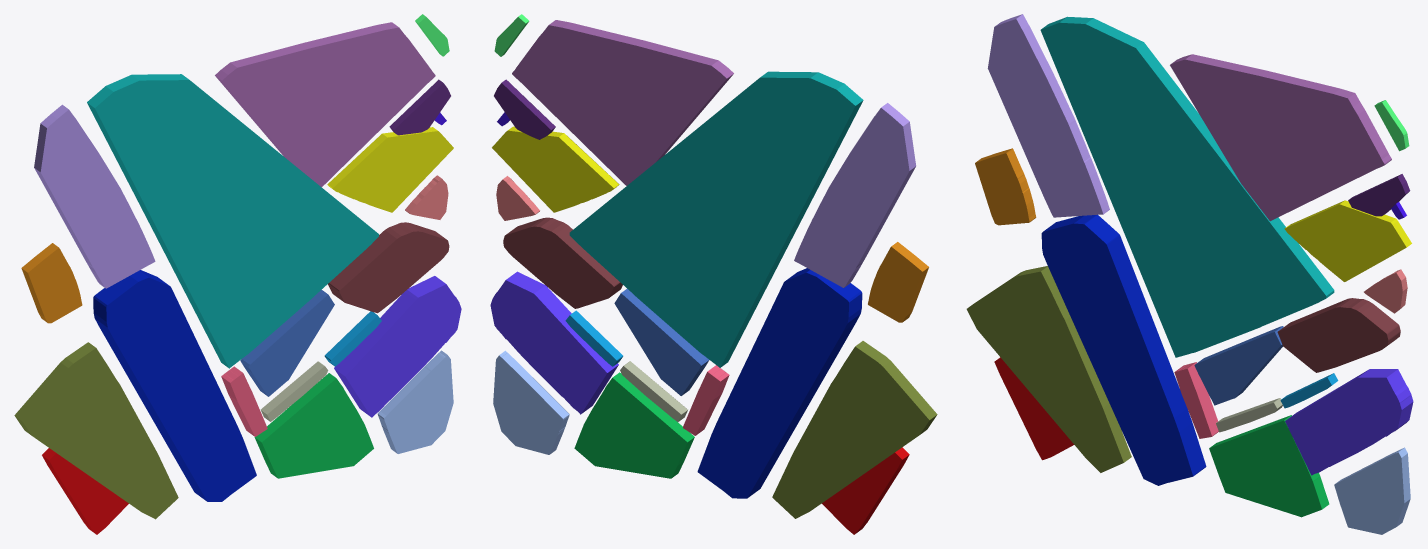
3 views of the same model, side by side, from view 1: azimuth 30°, elevation 25°; view 2: azimuth 150°, elevation 25°; view 3: azimuth 330°, elevation 25° (orthographic).
Parts seen in each view (by area): view 1: Block 2, Block 9, Block 0, Block 1, Block 7, Block 13, Block 11, Block 17, Block 19, Block 12, Block 16, Block 8 (+7 smaller); view 2: Block 2, Block 9, Block 0, Block 1, Block 7, Block 13, Block 11, Block 19, Block 17, Block 12, Block 16, Block 8 (+7 smaller); view 3: Block 2, Block 9, Block 0, Block 1, Block 7, Block 13, Block 11, Block 19, Block 17, Block 12, Block 16, Block 8 (+7 smaller).
Boxes of the visible parts, x1,y1,x2,y2 form: Block 2: (87, 74, 378, 368); Block 9: (215, 22, 435, 187); Block 0: (93, 270, 256, 501); Block 1: (14, 342, 178, 519); Block 7: (34, 104, 155, 288); Block 13: (334, 276, 461, 417); Block 11: (254, 373, 373, 478); Block 17: (328, 222, 449, 313); Block 19: (327, 127, 453, 212); Block 12: (377, 350, 453, 453); Block 16: (240, 289, 334, 396); Block 8: (21, 243, 82, 323); Block 2: (569, 71, 863, 367); Block 9: (512, 20, 733, 185); Block 0: (697, 268, 862, 498); Block 1: (772, 341, 937, 518); Block 7: (794, 103, 916, 287); Block 13: (490, 271, 618, 414); Block 11: (574, 372, 694, 478); Block 19: (492, 126, 619, 212); Block 17: (503, 217, 622, 308); Block 12: (493, 350, 569, 454); Block 16: (614, 288, 709, 395); Block 8: (868, 242, 928, 322); Block 2: (1040, 16, 1334, 357); Block 9: (1170, 54, 1391, 221); Block 0: (1041, 214, 1206, 485); Block 1: (966, 266, 1131, 472); Block 7: (987, 14, 1109, 217); Block 13: (1285, 369, 1413, 475); Block 11: (1209, 415, 1329, 517); Block 19: (1284, 200, 1411, 281); Block 17: (1277, 298, 1400, 372); Block 12: (1334, 447, 1410, 534); Block 16: (1194, 326, 1283, 405); Block 8: (975, 148, 1036, 225).
Bounding box in the file's own units: 545 × 530 × 28.56.
